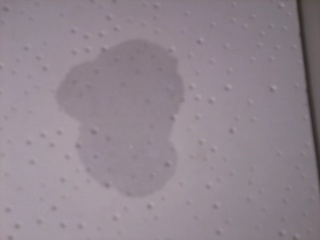Water_detected: (67, 62, 160, 179)
